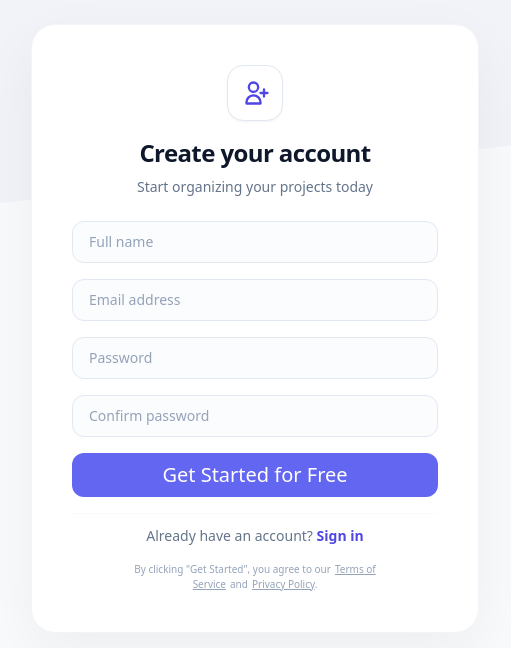
Scenario: shows error for weak password
The width and height of the screenshot is (511, 648).
Type "abc" into the password field labelled "Password". click: (255, 358)
box: [72,336,438,378]
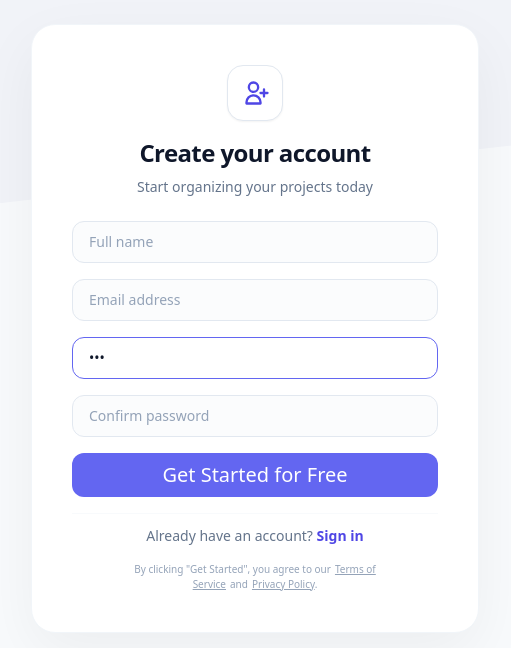
Click the button "Get Started for Free". click: (255, 474)
box: [72,452,438,496]
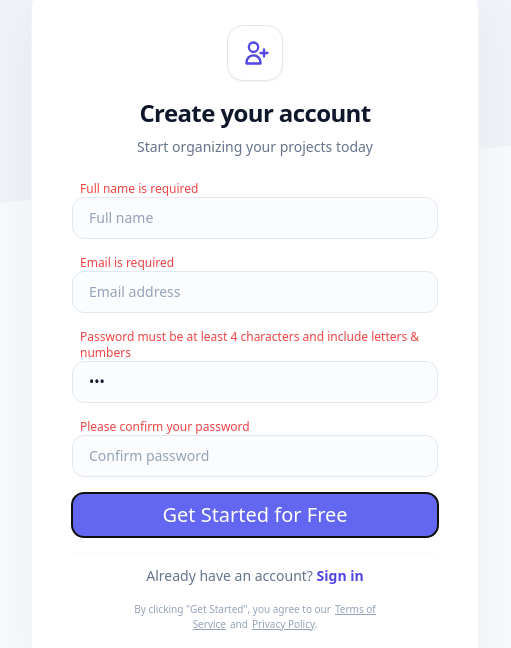
Check: the text "Password must be at least 4 characters" is shown, box [80,328,419,360]
